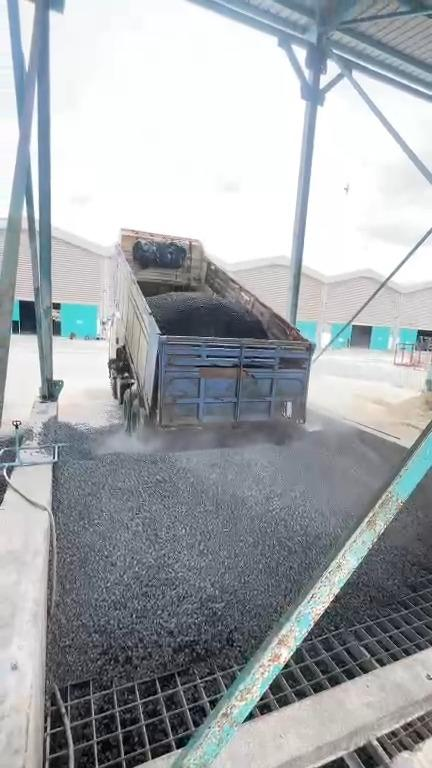gravel: (50, 423, 401, 684), (323, 476, 431, 628), (149, 292, 269, 339), (59, 399, 145, 455), (37, 415, 61, 506), (0, 466, 10, 511), (0, 434, 16, 451), (0, 449, 16, 464), (20, 428, 32, 443), (6, 465, 14, 481)
sand: (367, 393, 431, 444)
